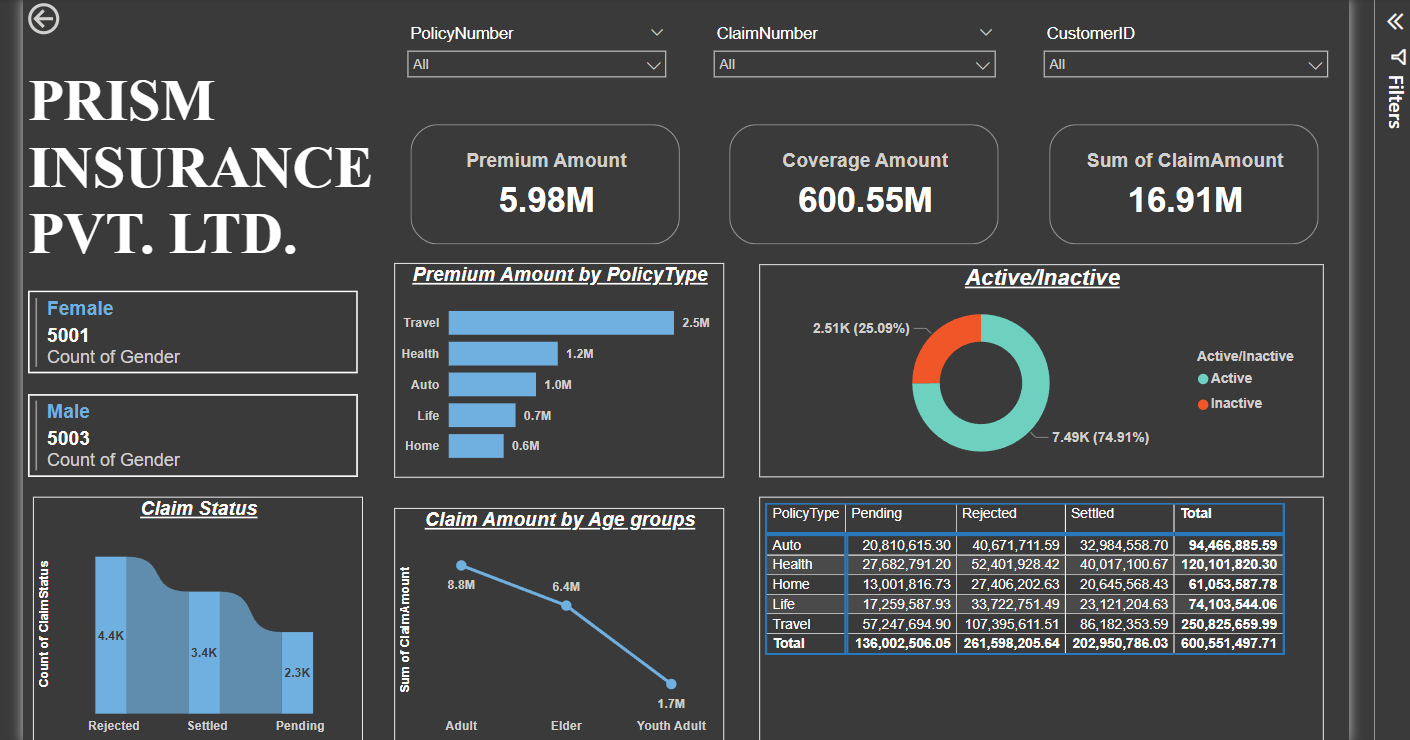

Layout of this report page (visuals, bound fields, positions):
{"tool":"powerbi","page":{"name":"Page 1","canvas":[1280,720],"ordinal":0},"visuals":[{"type":"slicer","fields":{"Values":["InsuranceData.PolicyNumber"]},"box":[360.9,20.6,270.3,96.1],"z":0},{"type":"slicer","fields":{"Values":["InsuranceData.ClaimNumber"]},"box":[655.9,20.6,292.3,96.1],"z":1000},{"type":"slicer","fields":{"Values":["InsuranceData.CustomerID"]},"box":[974.3,20.6,295,96.1],"z":2000},{"type":"textbox","box":[0,63.1,358.1,214.1],"z":3000},{"type":"cardVisual","fields":{"Data":["Sum(InsuranceData.PremiumAmount)"]},"box":[369.1,116.6,270.3,126.2],"z":4000},{"type":"cardVisual","fields":{"Data":["Sum(InsuranceData.CoverageAmount)"]},"box":[676.5,116.6,270.3,126.2],"z":5000},{"type":"cardVisual","fields":{"Data":["Sum(InsuranceData.ClaimAmount)"]},"box":[985.3,116.6,270.3,126.2],"z":6000},{"type":"multiRowCard","fields":{"Values":["InsuranceData.Gender","CountNonNull(InsuranceData.Gender)"]},"box":[0,277.2,328,215.4],"z":7000},{"type":"ribbonChart","title":"Claim Status ","fields":{"Category":["InsuranceData.ClaimStatus"],"Y":["CountNonNull(InsuranceData.ClaimStatus)"]},"box":[9.6,481.6,318.4,238.8],"z":8000},{"type":"barChart","title":"Premium Amount by PolicyType","fields":{"Y":["Sum(InsuranceData.PremiumAmount)"],"Category":["InsuranceData.PolicyType"]},"box":[358.1,255.2,318.4,207.2],"z":9000},{"type":"lineChart","title":"Claim Amount by Age groups","fields":{"Category":["InsuranceData.Age groups"],"Y":["Sum(InsuranceData.ClaimAmount)"]},"box":[358.1,492.6,318.4,227.8],"z":10000},{"type":"donutChart","title":" Active/Inactive ","fields":{"Category":["InsuranceData.Active/Inactive"],"Y":["CountNonNull(InsuranceData.Active/Inactive)"]},"box":[710.8,256.6,544.8,205.8],"z":11000},{"type":"pivotTable","fields":{"Values":["Sum(InsuranceData.CoverageAmount)"],"Rows":["InsuranceData.PolicyType"],"Columns":["InsuranceData.ClaimStatus"]},"box":[710.8,481.6,544.8,238.8],"z":12000},{"type":"actionButton","box":[0,0,100,40],"z":13000}]}

Visuals, with their boxes on the page's 1280x720 design canvas (x1, y1, x2, y2). These are canvas units, not pixel positions in the 1410x740 screenshot, which may show the page scaled, cropped or inside an application window:
slicer - InsuranceData.PolicyNumber: bbox=[361, 21, 631, 117]
slicer - InsuranceData.ClaimNumber: bbox=[656, 21, 948, 117]
slicer - InsuranceData.CustomerID: bbox=[974, 21, 1269, 117]
textbox: bbox=[0, 63, 358, 277]
cardVisual - Sum(InsuranceData.PremiumAmount): bbox=[369, 117, 639, 243]
cardVisual - Sum(InsuranceData.CoverageAmount): bbox=[676, 117, 947, 243]
cardVisual - Sum(InsuranceData.ClaimAmount): bbox=[985, 117, 1256, 243]
multiRowCard - InsuranceData.Gender x CountNonNull(InsuranceData.Gender): bbox=[0, 277, 328, 493]
"Claim Status " ribbonChart: bbox=[10, 482, 328, 720]
"Premium Amount by PolicyType" barChart: bbox=[358, 255, 676, 462]
"Claim Amount by Age groups" lineChart: bbox=[358, 493, 676, 720]
" Active/Inactive " donutChart: bbox=[711, 257, 1256, 462]
pivotTable - Sum(InsuranceData.CoverageAmount) x InsuranceData.PolicyType: bbox=[711, 482, 1256, 720]
actionButton: bbox=[0, 0, 100, 40]
